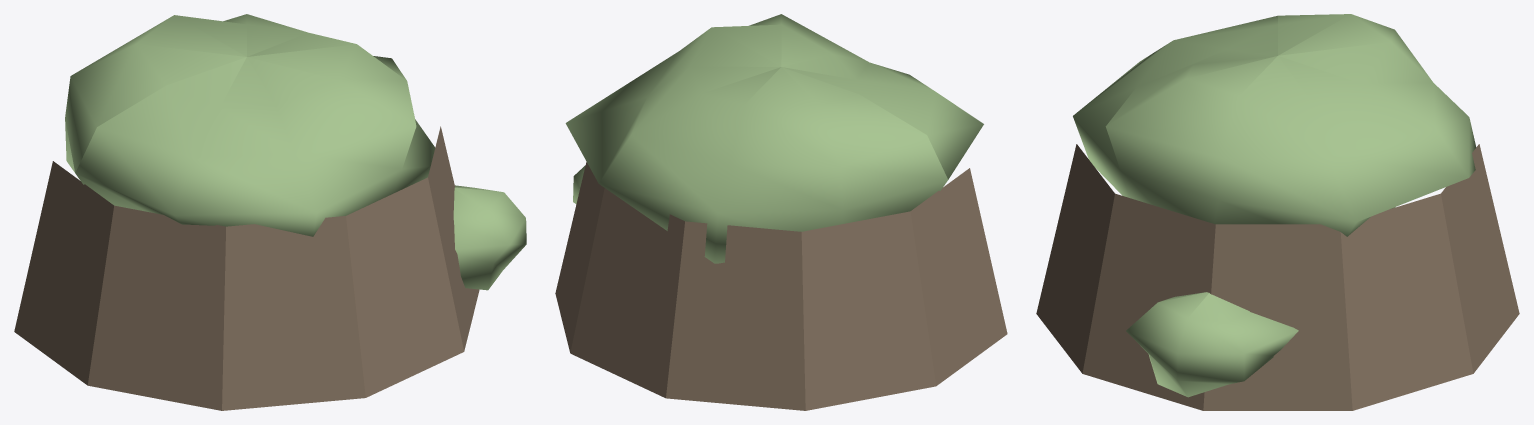
The model's file is stump_mossy.glb.
The picture shows the model from 3 angles, left to right: view 1: azimuth 30°, elevation 25°; view 2: azimuth 150°, elevation 25°; view 3: azimuth 270°, elevation 25°; orthographic projection. The views are drawn at different scales.
Visible parts, largest first — view 1: stump-mossy; view 2: stump-mossy; view 3: stump-mossy.
Part boxes in pixels (x1,y1,x2,y2): stump-mossy: (14,14,526,410); stump-mossy: (555,14,1007,410); stump-mossy: (1036,14,1519,410).
Bounding box in the file's own units: 0.7462 × 0.4332 × 0.72.
